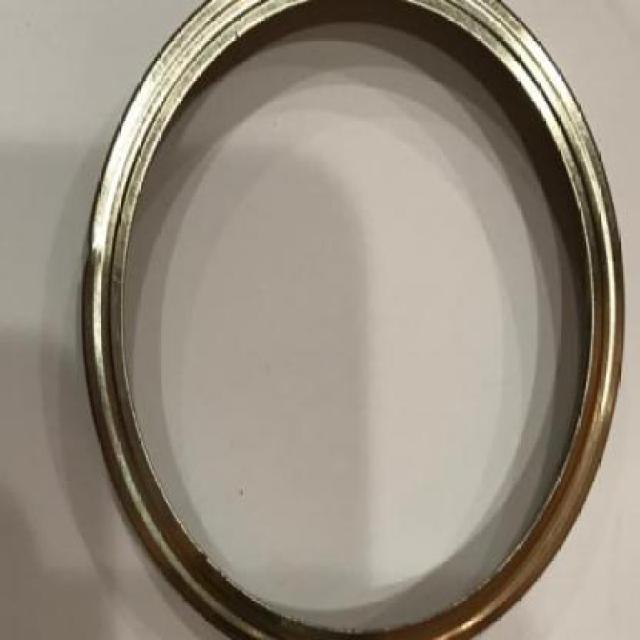METAL: (83, 0, 625, 638)
